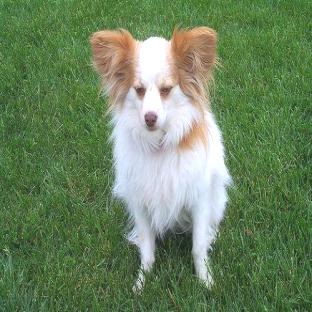Animal: (91, 26, 231, 291)
